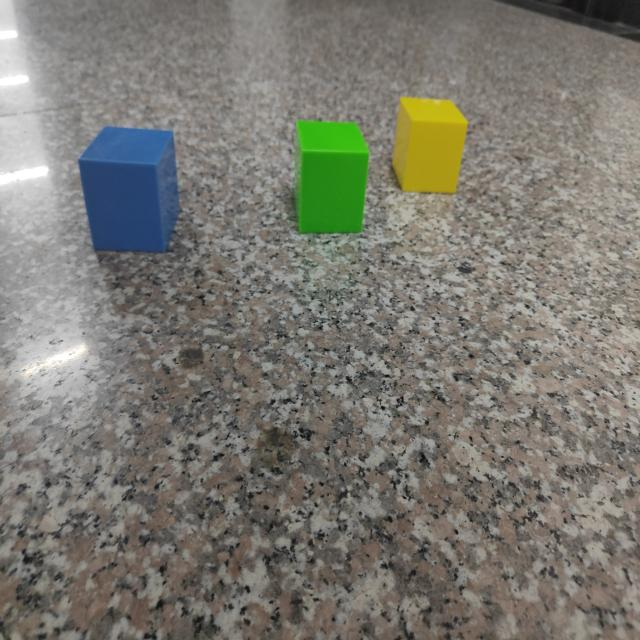blue: (78, 127, 181, 255)
green: (295, 119, 370, 236)
yellow: (393, 96, 468, 196)
